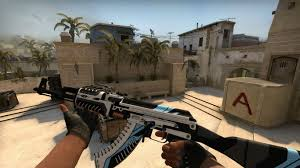gun: (26, 72, 299, 167)
